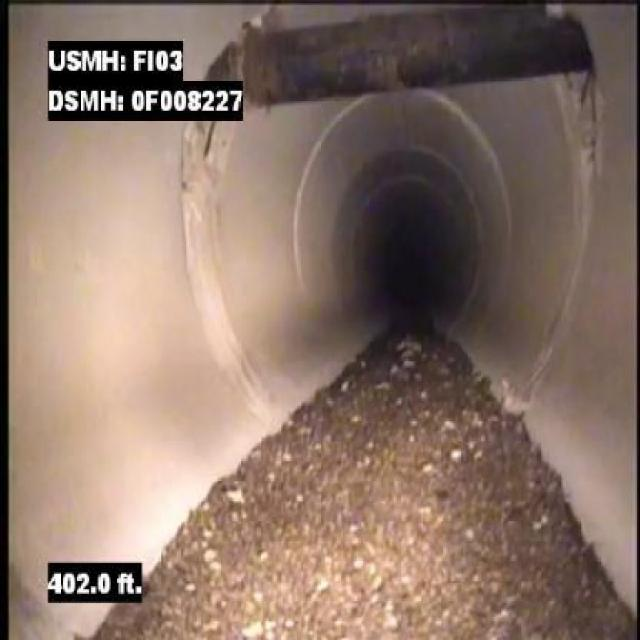Debris: (157, 420, 617, 625)
Utility intrusion: (209, 2, 605, 109)
